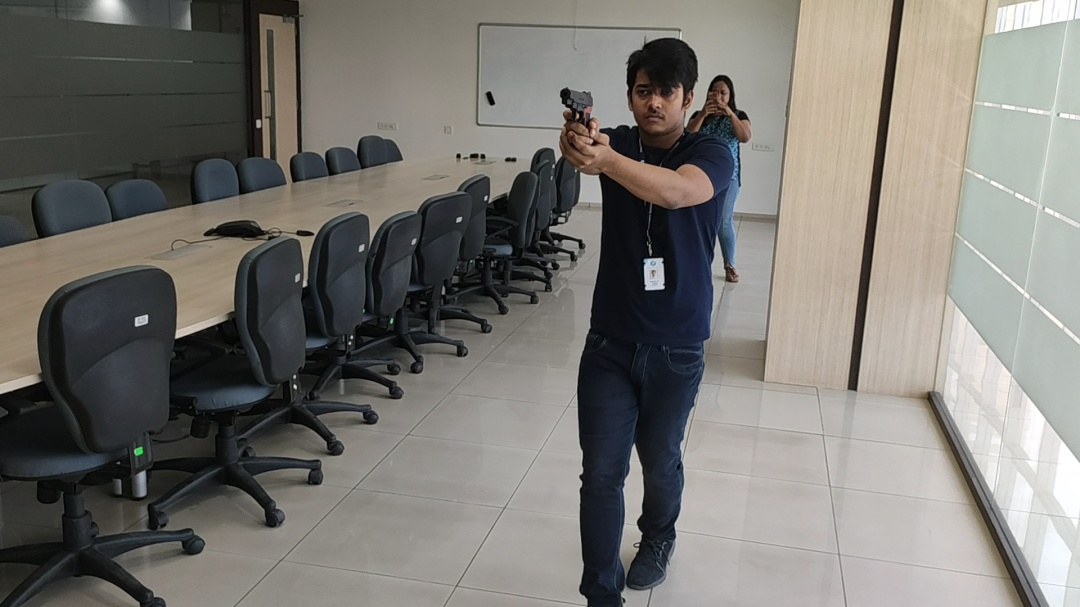gun: (554, 84, 599, 125)
